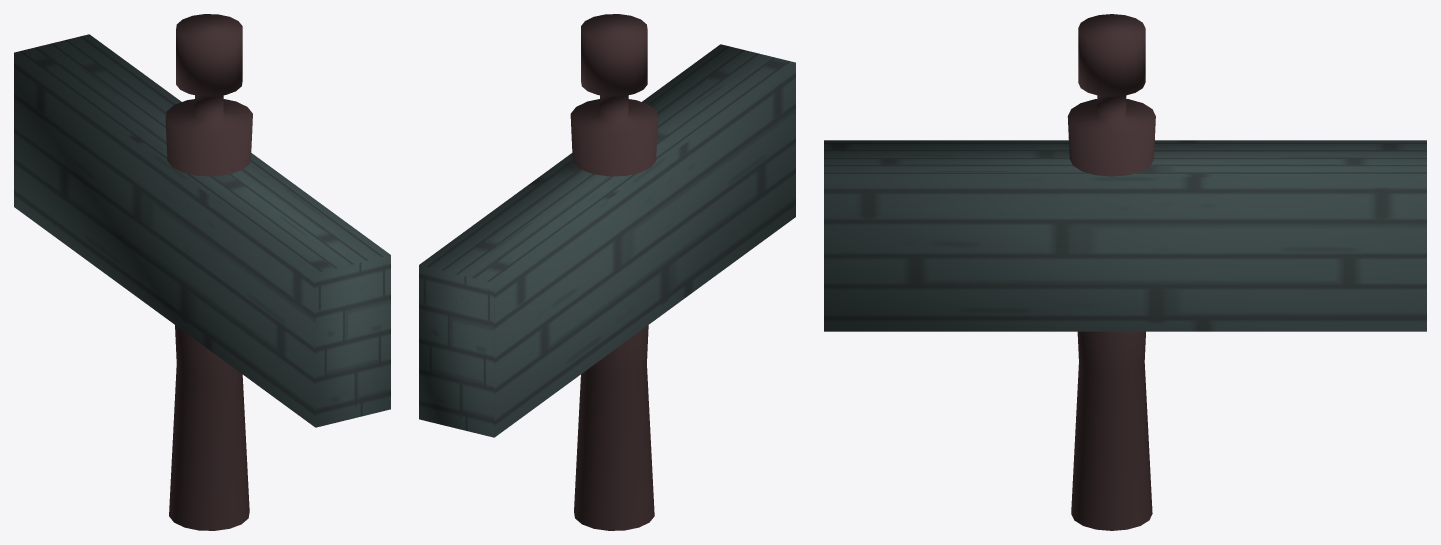
The model's file is Cerca3.fbx.
3 renders of one model, left to right at view 1: azimuth 30°, elevation 25°; view 2: azimuth 150°, elevation 25°; view 3: azimuth 270°, elevation 25°, orthographic.
Parts seen in each view (by area): view 1: Cerca; view 2: Cerca; view 3: Cerca.
Boxes of the visible parts, left/top/right/bottom form: Cerca: left=14, top=14, right=390, bottom=530; Cerca: left=419, top=14, right=795, bottom=530; Cerca: left=824, top=14, right=1426, bottom=530.
Bounding box in the file's own units: 39.94 × 273 × 243.
